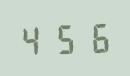five: (50, 20, 80, 55)
four: (18, 21, 48, 56)
six: (81, 19, 111, 54)
